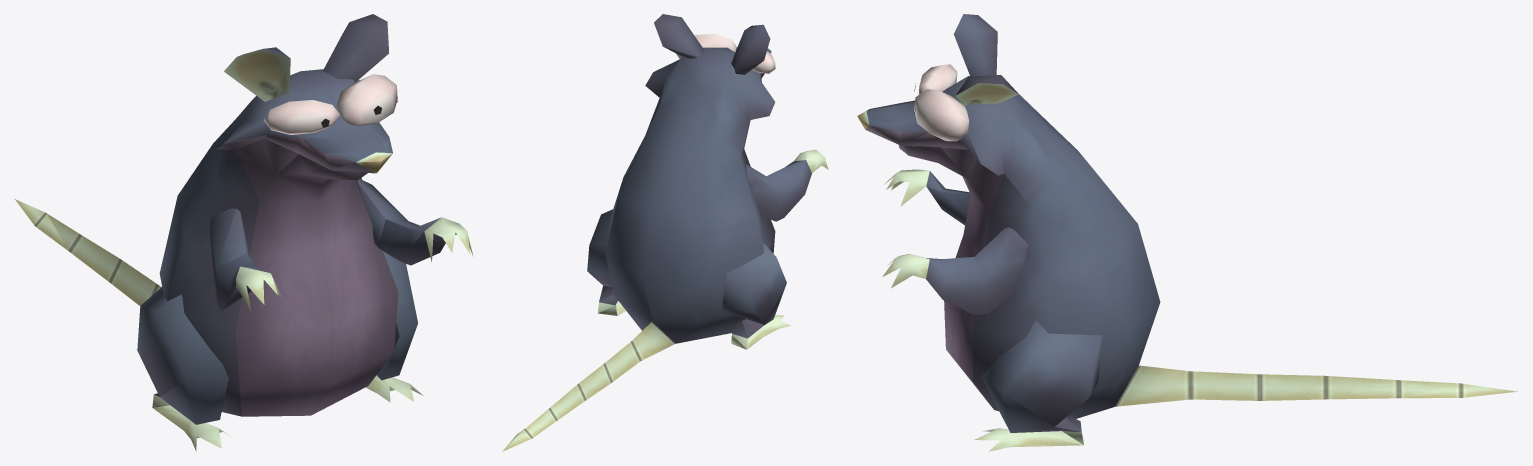
File: rat.obj
3 views of the same model, side by side, from view 1: azimuth 30°, elevation 25°; view 2: azimuth 150°, elevation 25°; view 3: azimuth 270°, elevation 25° (orthographic). The views are drawn at different scales.
Parts seen in each view (by area): view 1: Mesh_0803.rip; view 2: Mesh_0803.rip; view 3: Mesh_0803.rip.
Part boxes in pixels (x1,y1,x2,y2): Mesh_0803.rip: (15, 14, 473, 451); Mesh_0803.rip: (502, 14, 828, 451); Mesh_0803.rip: (857, 14, 1517, 451).
Size of the model in its own units: 0.525 by 0.8172 by 1.35.
